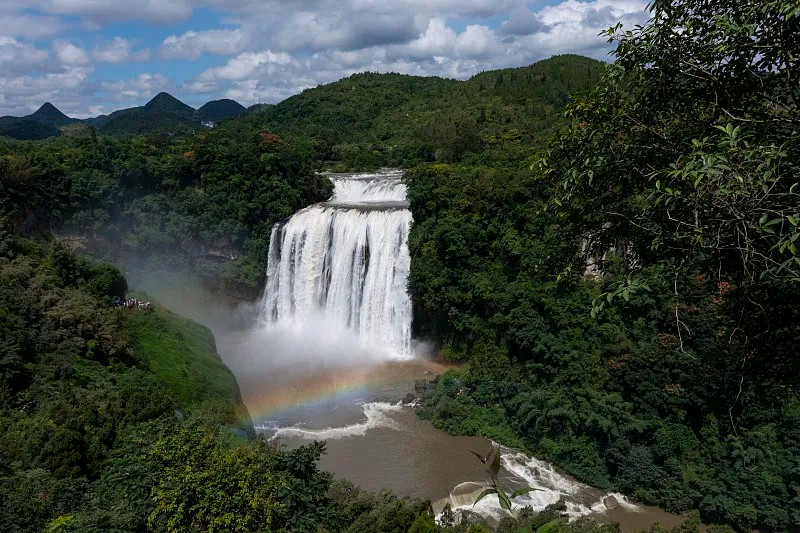Huangguoshu: (262, 171, 411, 352)
